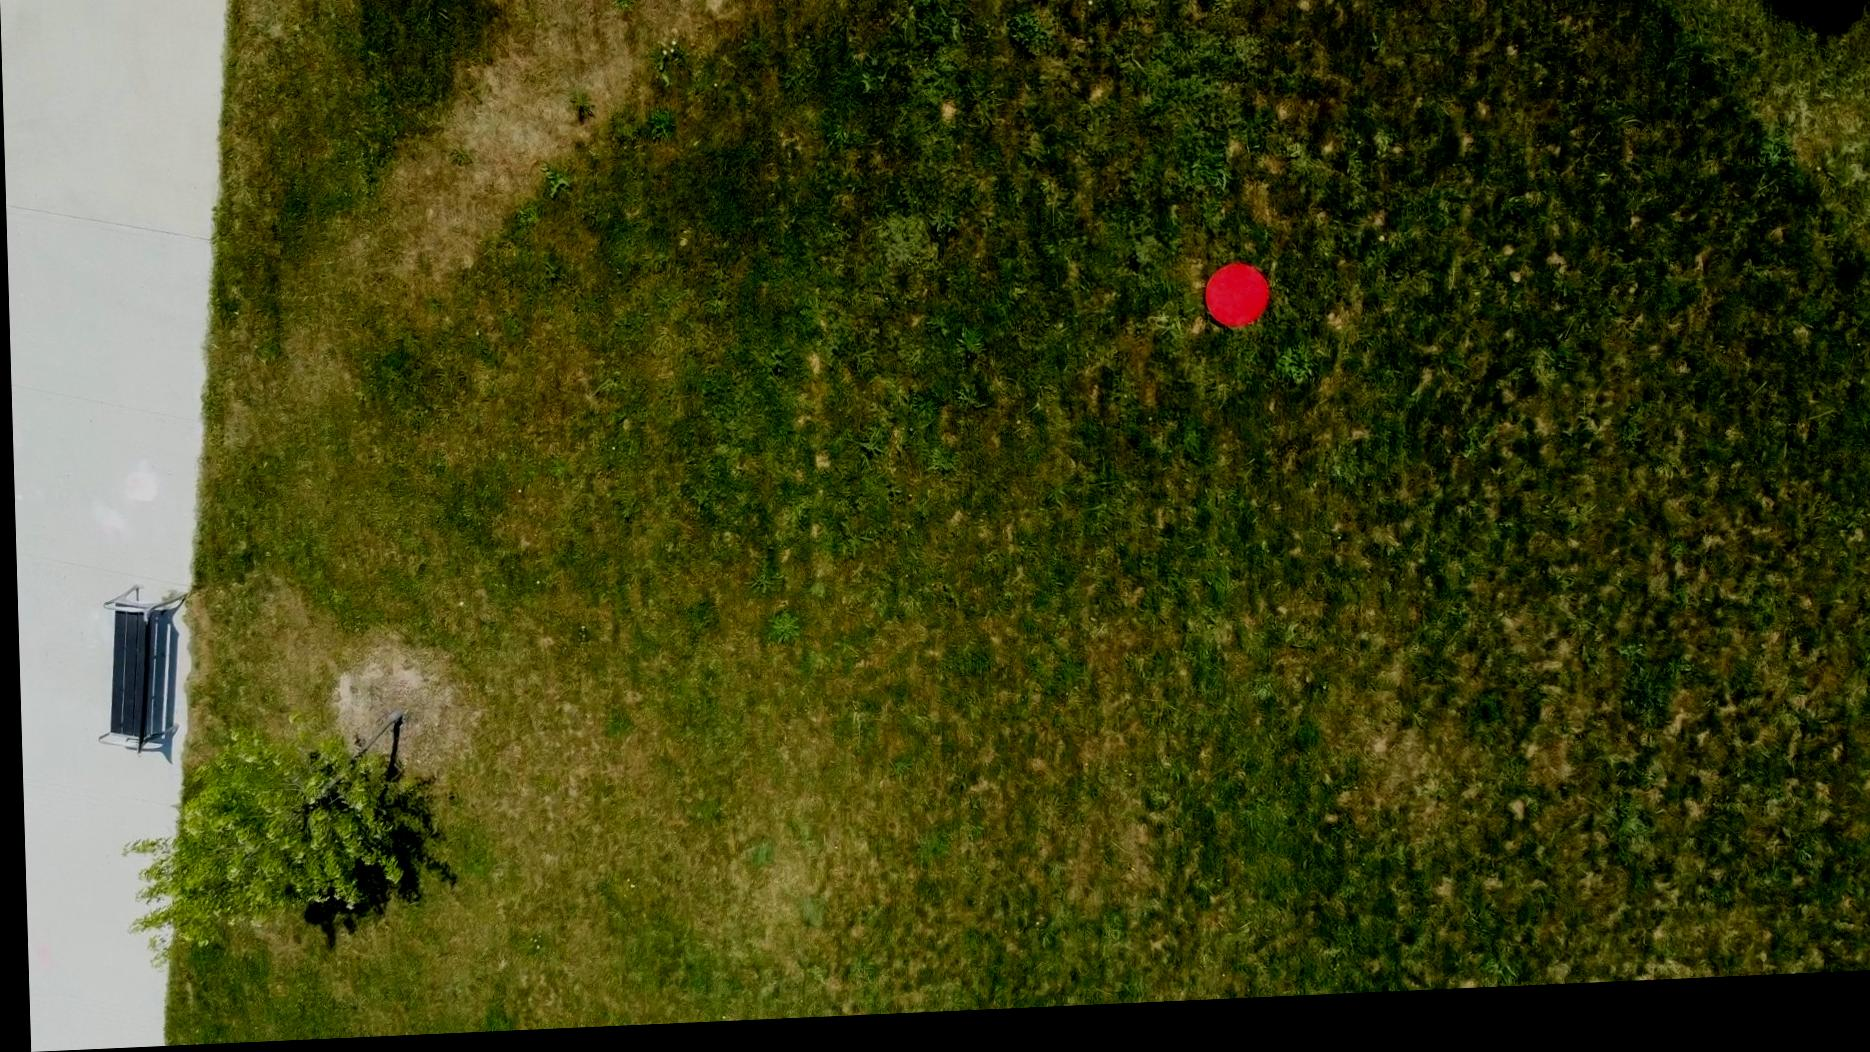Red: (1198, 268, 1271, 342)
